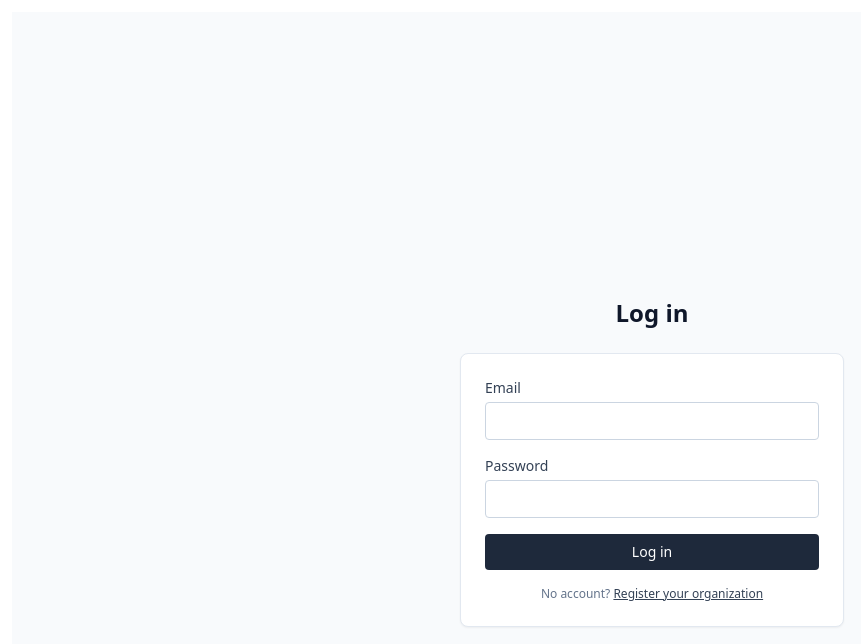
Test case: LoginPage › successful login stores tokens and redirects
Step 1. Type "admin@example.com" into the field labelled "Email" → x=652, y=421, box [485,402,819,440]
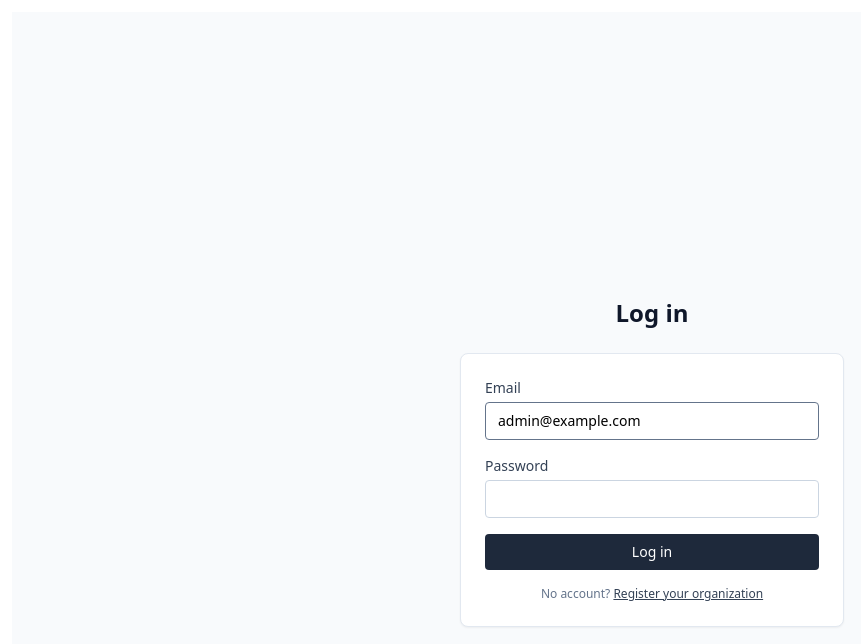
Step 2. Type "longenough" into the password field labelled "Password" → x=652, y=499, box [485,480,819,518]
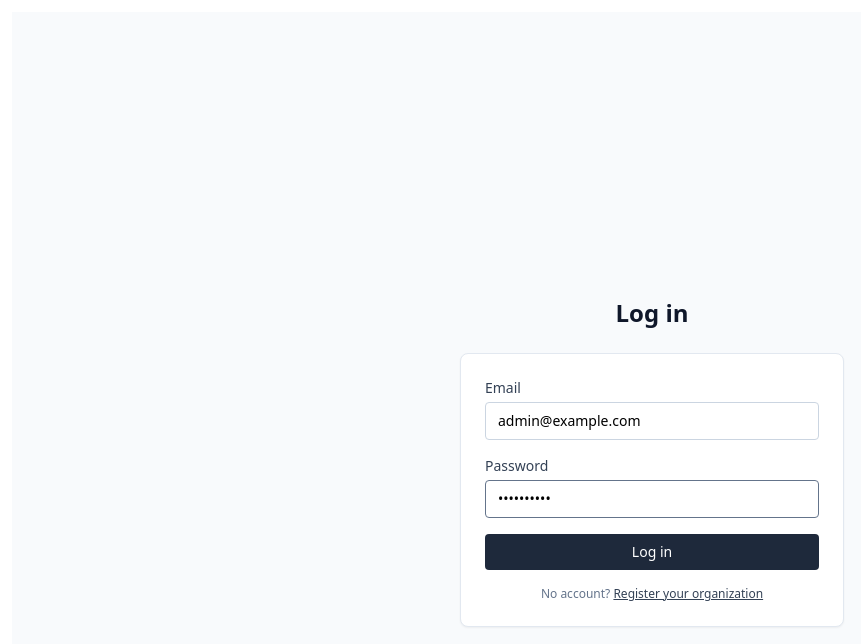
Step 3. Click the button with test id "login-submit" → x=652, y=552, box [485,534,819,570]
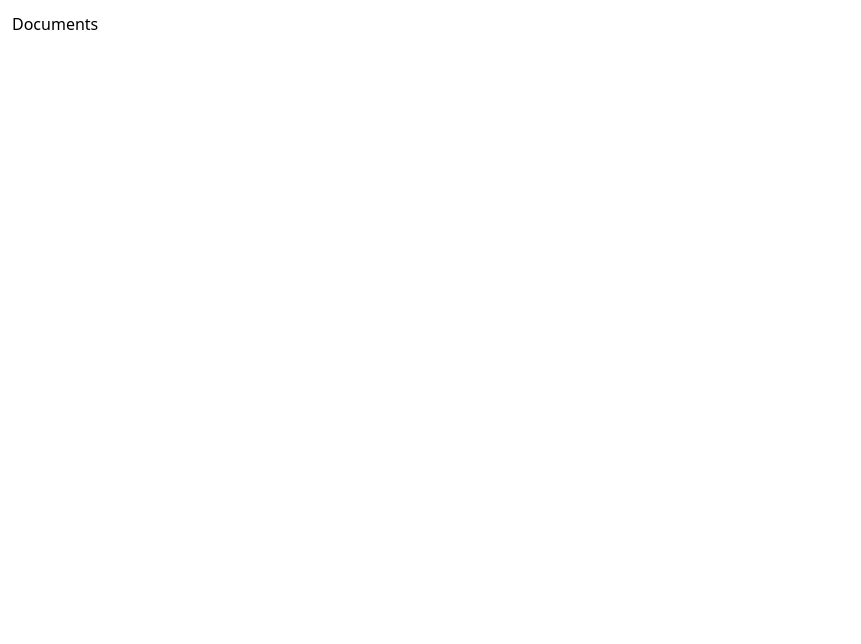
expect the text "Documents" is shown: met, box [12,13,98,35]
